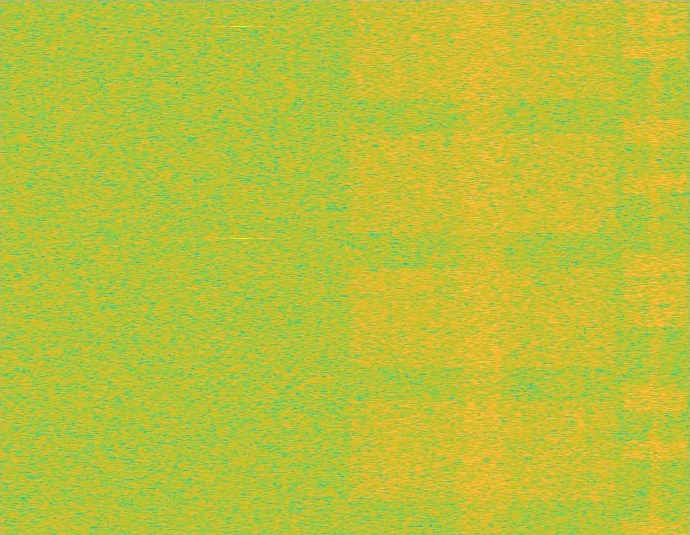5G: (345, 0, 621, 534)
DSSS: (452, 0, 514, 534), (648, 0, 663, 534)
LTE: (621, 0, 689, 534)
Radar: (234, 0, 248, 534)
